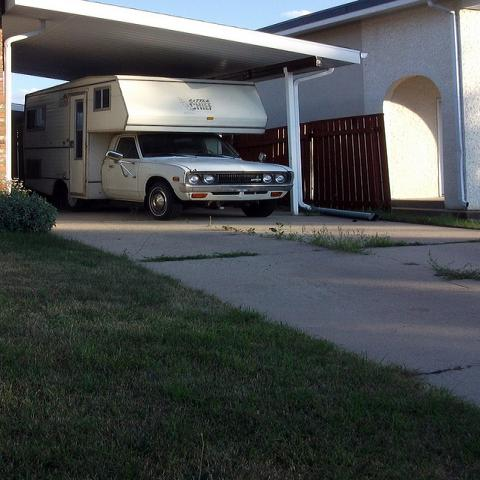truck: (21, 75, 295, 220)
